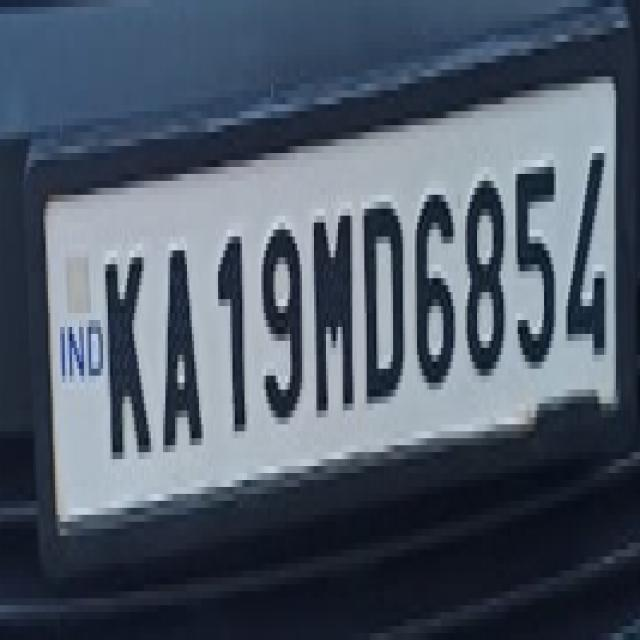1: (213, 203, 258, 451)
4: (561, 118, 610, 376)
5: (507, 142, 562, 378)
6: (410, 159, 461, 407)
8: (461, 152, 511, 391)
9: (251, 203, 310, 439)
A: (153, 222, 211, 466)
D: (358, 173, 409, 419)
K: (98, 231, 156, 473)
M: (307, 189, 359, 433)
